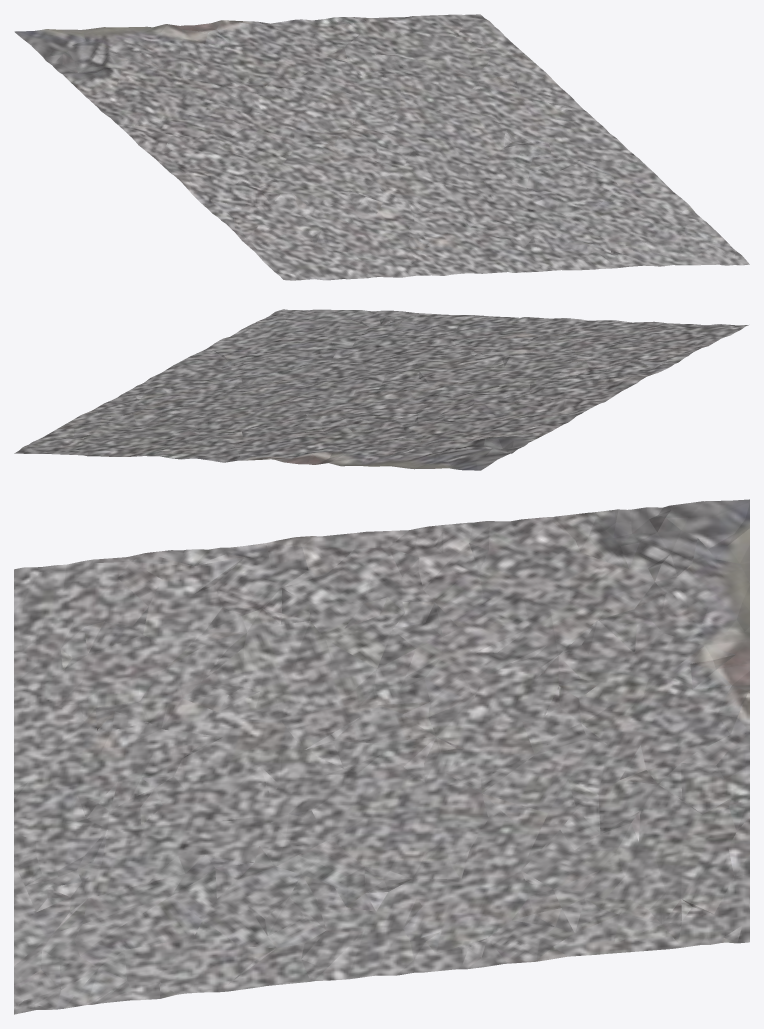
3 views of the same model, one above another, from view 1: azimuth 30°, elevation 25°; view 2: azimuth 150°, elevation 25°; view 3: azimuth 270°, elevation 25° (orthographic). The views are drawn at different scales.
Bounding box in the file's own units: 0.8373 × 0.2565 × 0.8374.
3 materials, 3 textured.
